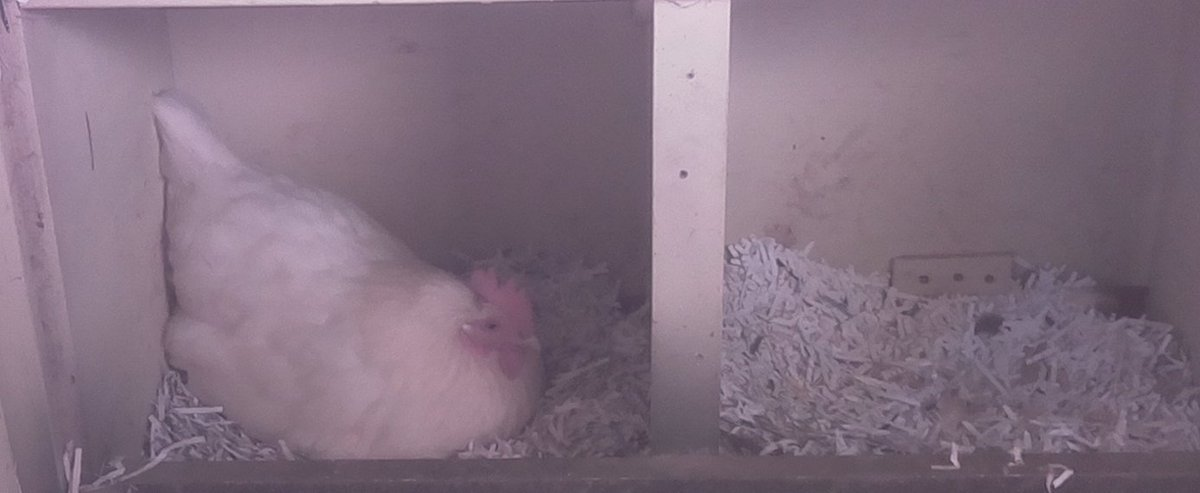hen: (136, 201, 549, 453)
